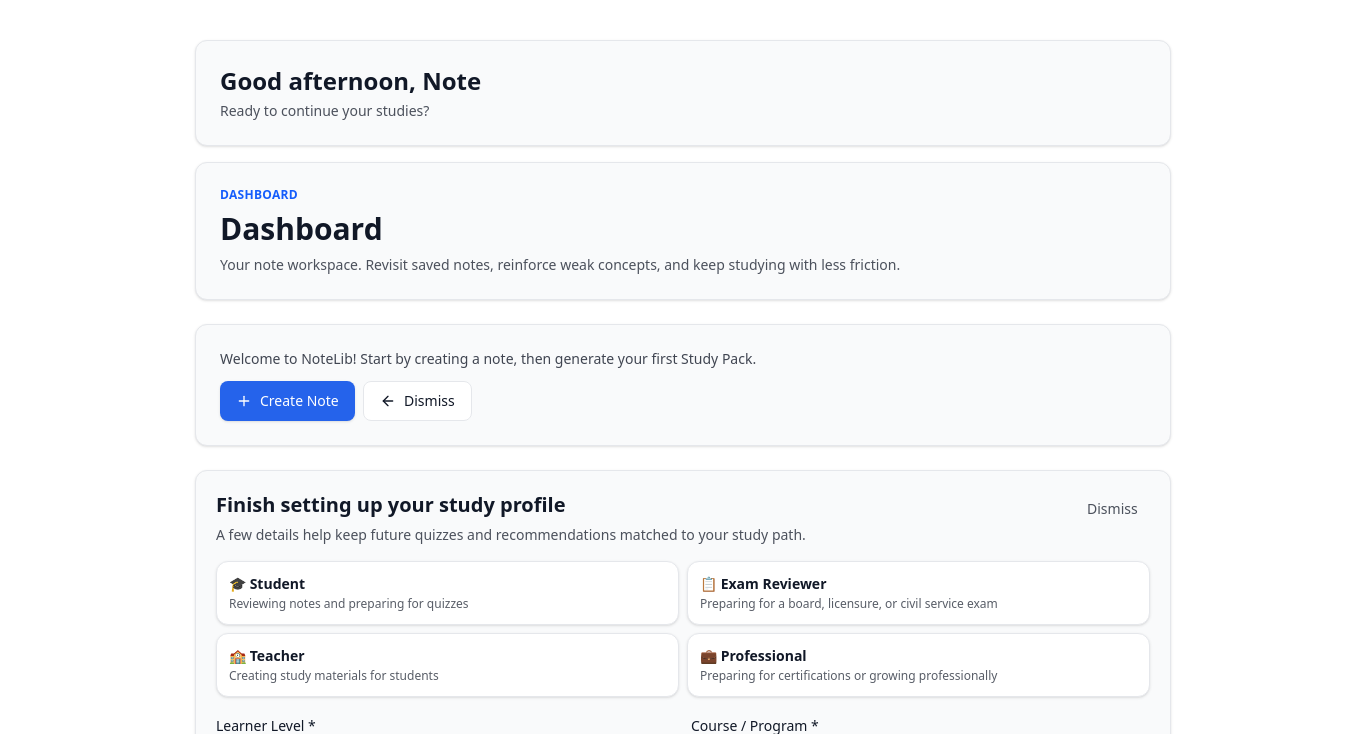
Scenario: DashboardPage profile variants › shows a non-blocking profile completion prompt for pending copy-on-signup users
expect the heading "Finish setting up your study profile" is shown: met, box [216,491,566,518]
Click the button with aria-label "Dismiss profile completion prompt": (1113, 509) [1075,491,1150,527]
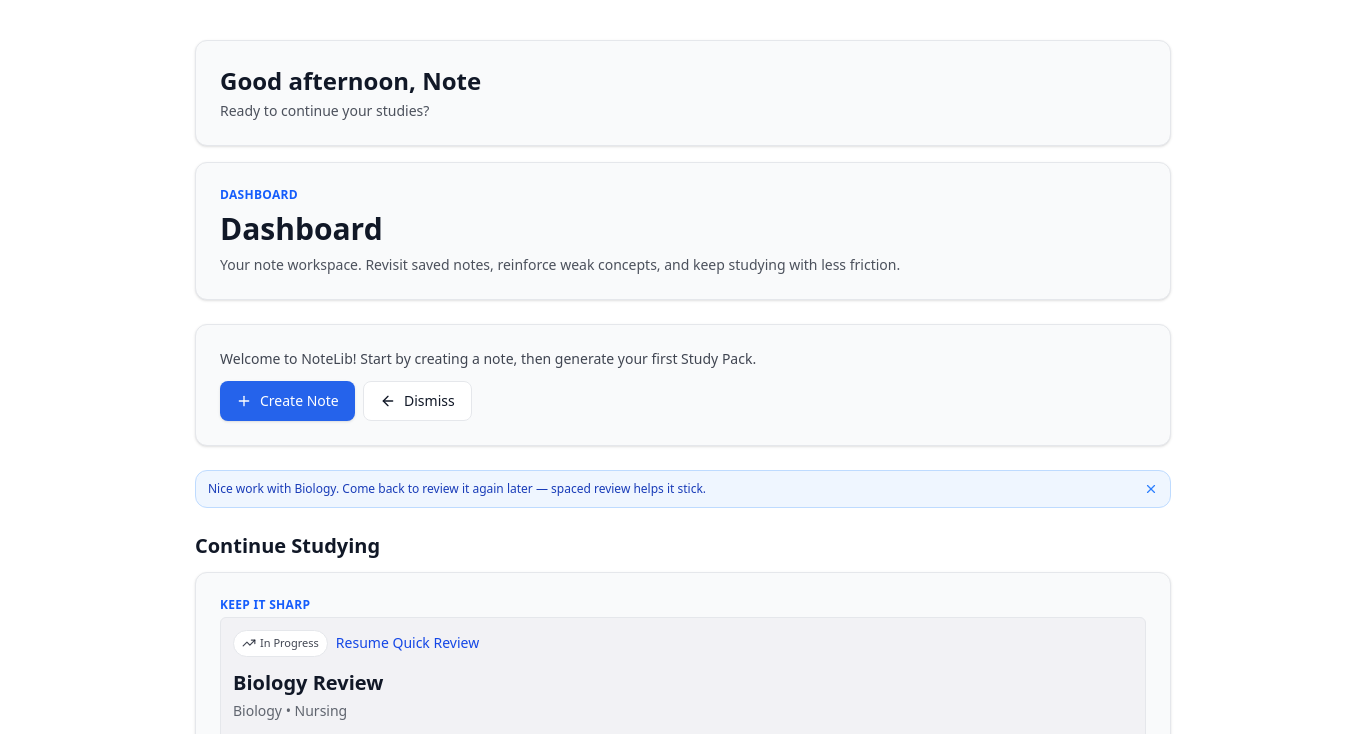
expect the heading "Finish setting up your study profile" is gone: met
